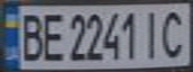1: (118, 8, 142, 61)
2: (84, 9, 106, 62), (66, 9, 87, 62)
4: (103, 8, 124, 61)
B: (15, 9, 45, 62)
C: (157, 6, 190, 60)
E: (39, 10, 66, 63)
I: (139, 7, 166, 60)
